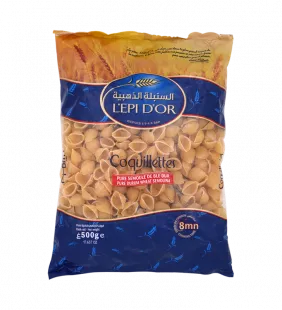L'EPI D'OR: (37, 20, 244, 285)
